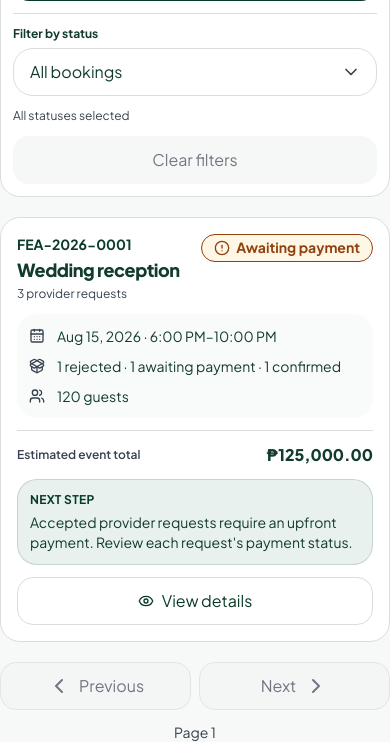
Scenario: customer booking history and details › offers payment only for waiting requests and exposes no refund or lifecycle controls
The width and height of the screenshot is (390, 742).
(page scrolled)
Click the button with aria-label "View booking FEA-2026-0001".
click(195, 601)  # box [17,577,373,625]
(page scrolled)
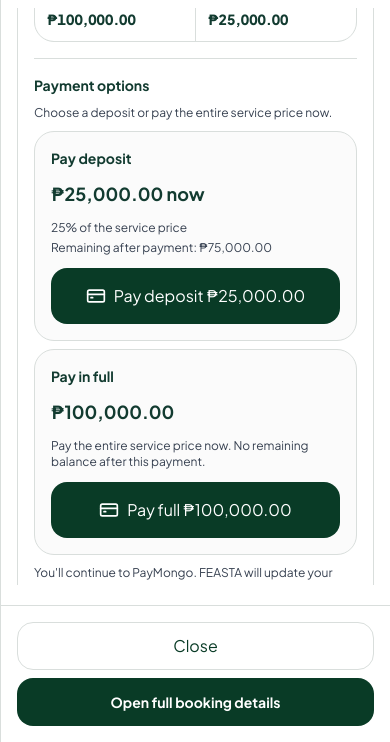
Expected: the button "Pay deposit ₱25,000.00" is enabled, [51,268,340,324]
Expected: the number of buttons "Pay deposit ₱25,000.00" is 1, [51,268,340,324]
